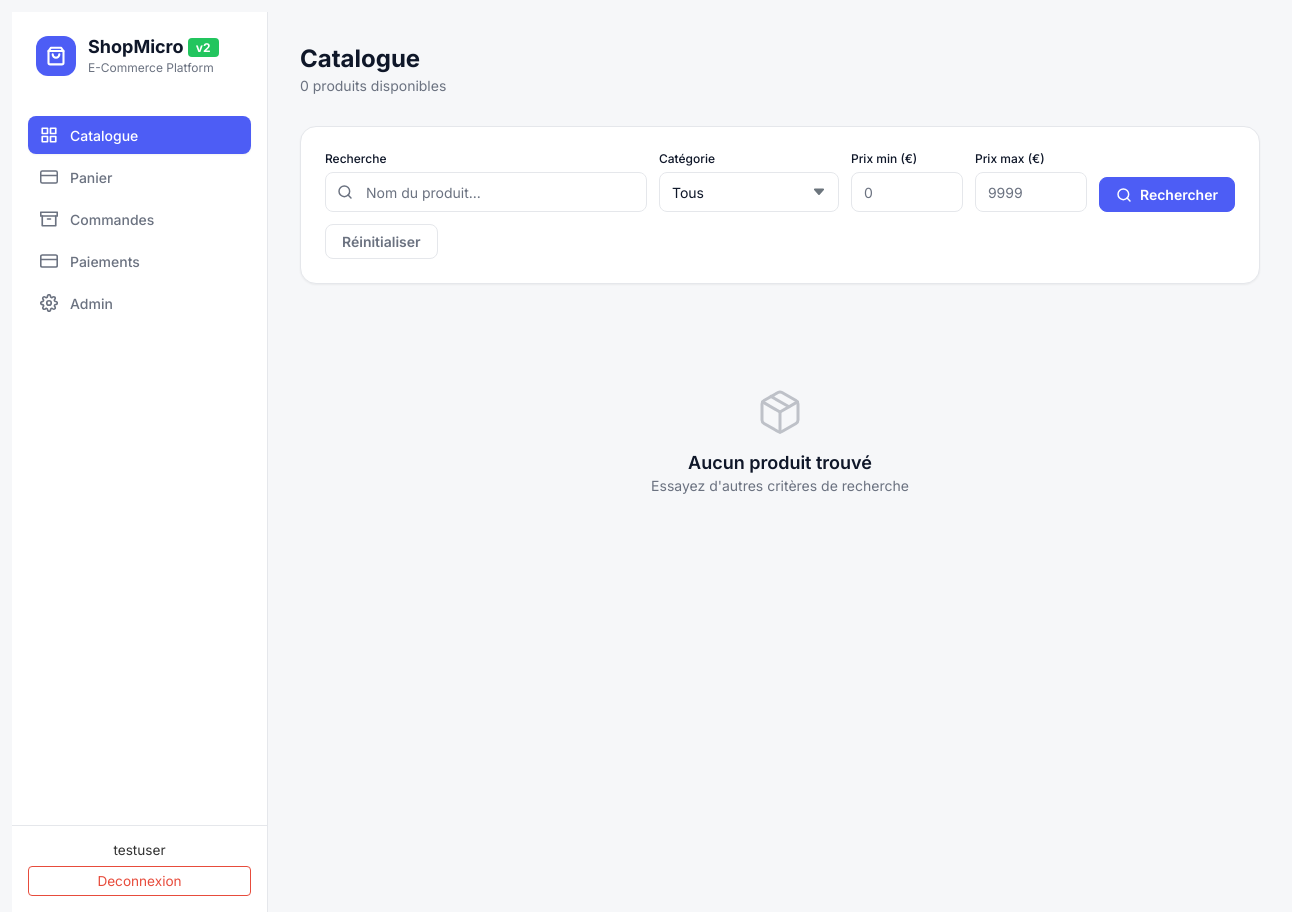
Test case: App › navigates to PaymentPage when Paiements is clicked
Click the button "Paiements" at (140, 261), box [28,242,251,280]
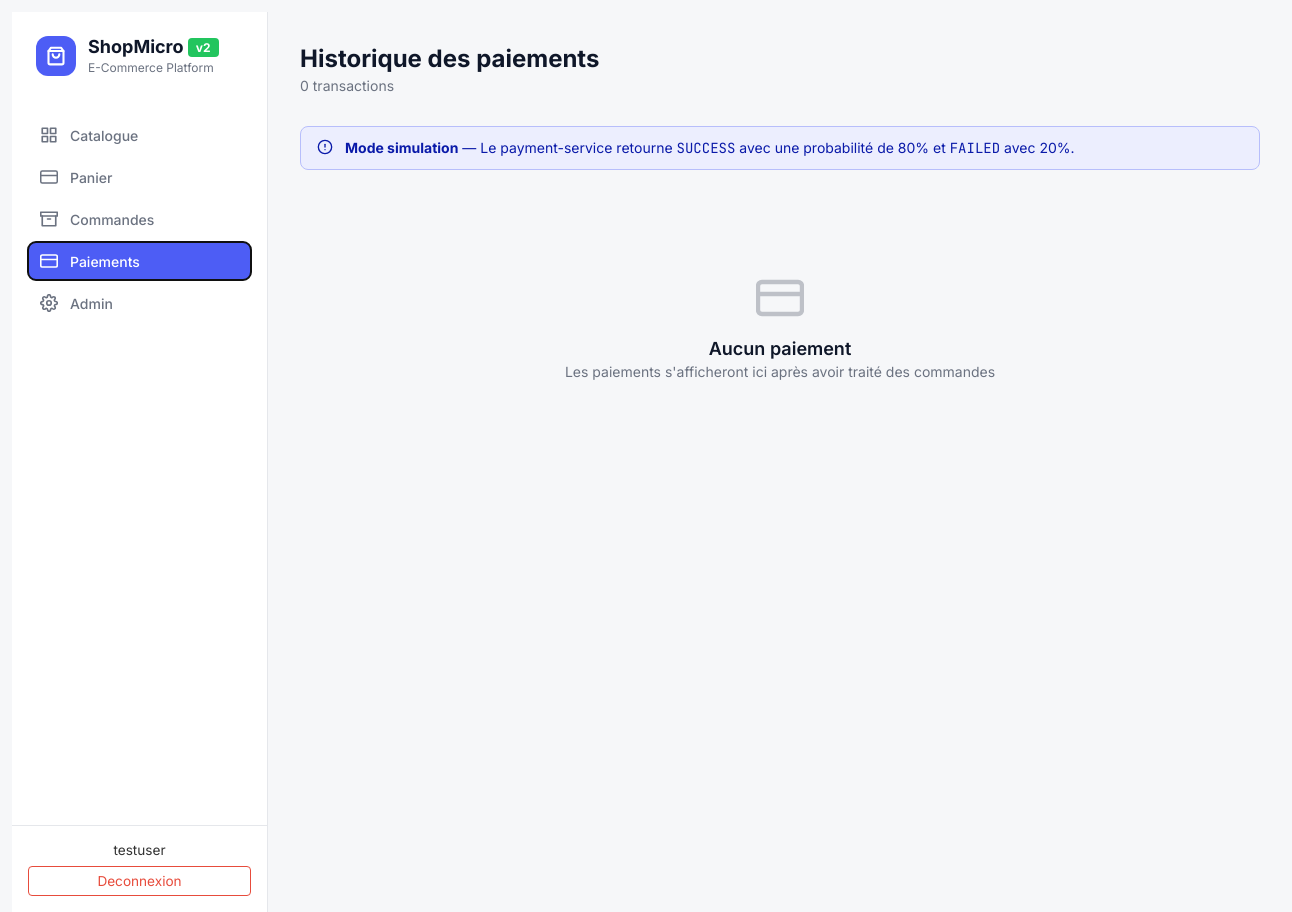
Expected: the heading "Historique des paiements" is shown, [300,44,599,73]
